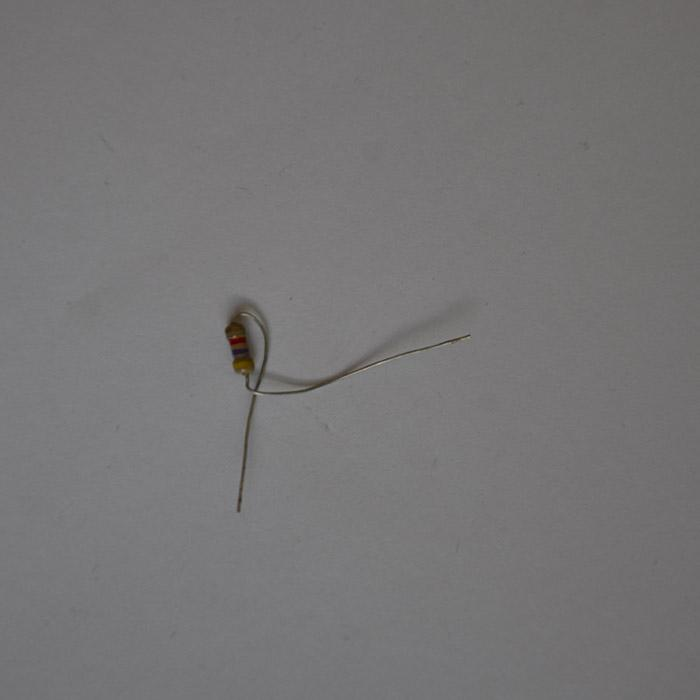resistor: (223, 318, 255, 376)
